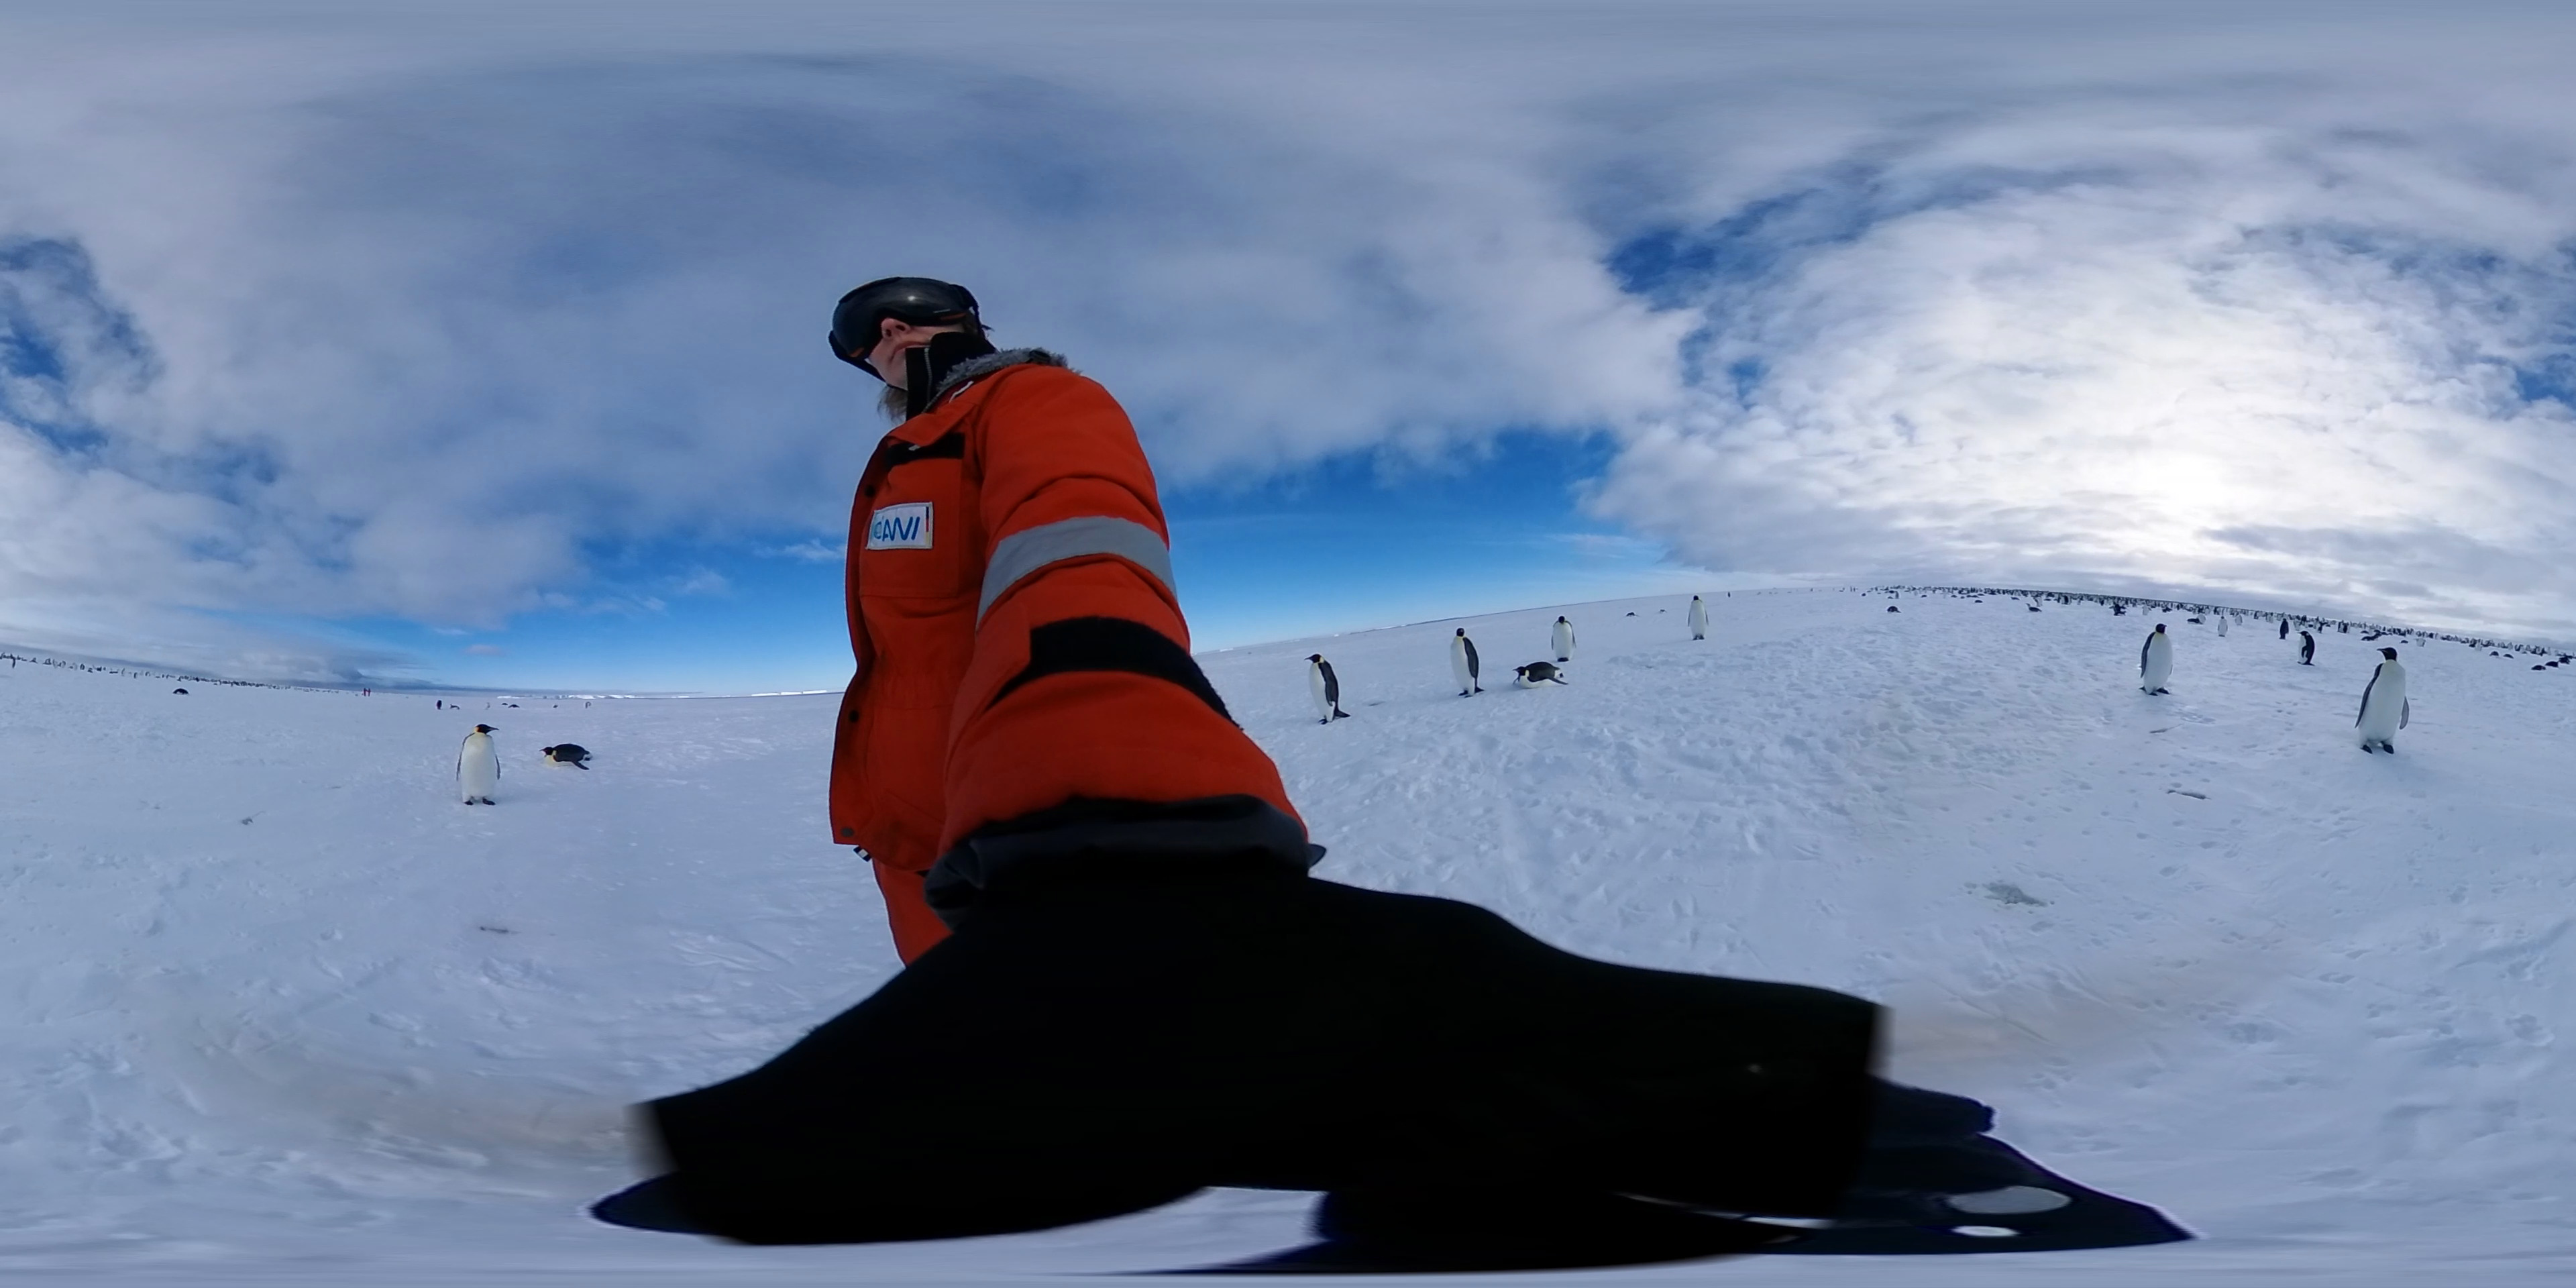adult_standing_penguin: (2353, 642, 2417, 759), (457, 721, 503, 808), (1301, 651, 1350, 726), (1446, 624, 1490, 701), (2141, 623, 2178, 697), (1548, 614, 1577, 665), (1684, 595, 1712, 639), (2297, 629, 2316, 667)
adult_toboggan_penguin: (1508, 660, 1571, 693), (537, 743, 596, 772), (171, 687, 191, 693)
researcher: (813, 266, 1326, 1022)
